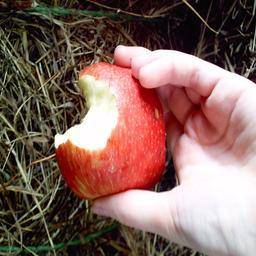apple: (52, 61, 168, 202)
